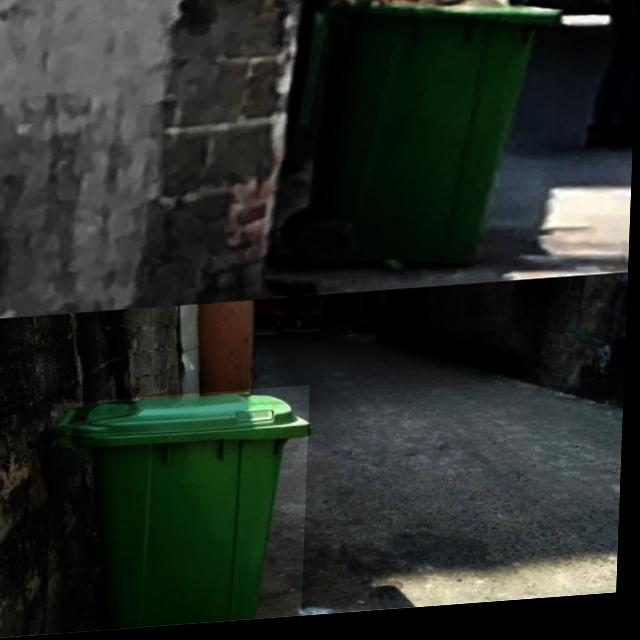garbage_bin: (50, 390, 313, 635)
overflow: (289, 0, 561, 280)
